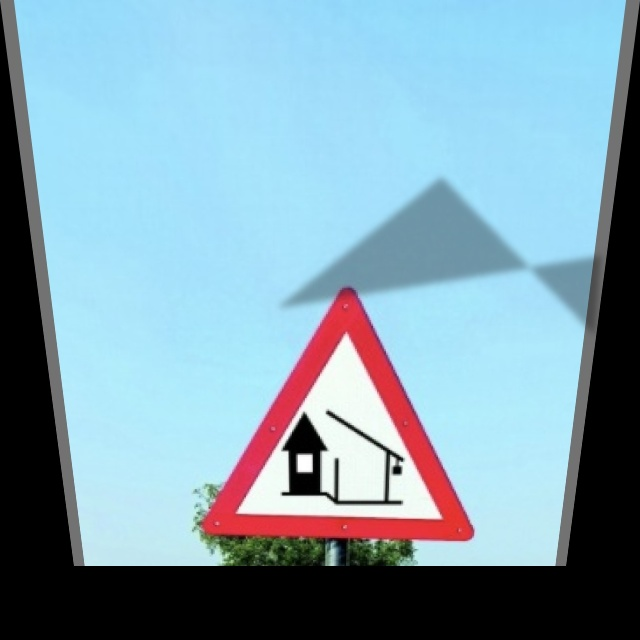Barrier_Ahead: (186, 289, 497, 541)
